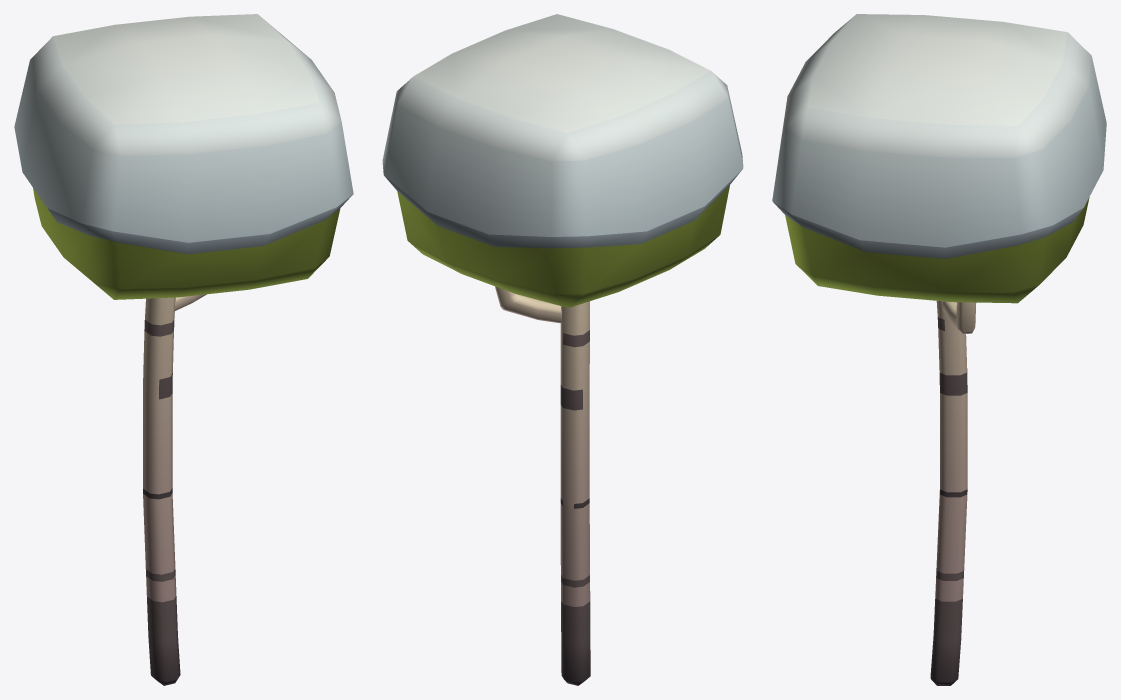
File: birch_tree_col1_08_snow.fbx
The picture shows the model from 3 angles, left to right: view 1: azimuth 30°, elevation 25°; view 2: azimuth 150°, elevation 25°; view 3: azimuth 270°, elevation 25°; orthographic projection. The views are drawn at different scales.
Visible parts, largest first — view 1: birch_tree_col1_08_snow; view 2: birch_tree_col1_08_snow; view 3: birch_tree_col1_08_snow.
Boxes of the visible parts, box(x1,y1,x2,y2) form: birch_tree_col1_08_snow: box(14, 14, 353, 685); birch_tree_col1_08_snow: box(382, 14, 743, 685); birch_tree_col1_08_snow: box(772, 14, 1106, 685).
Size of the model in its own units: 296 by 621 by 295.
Materials: 1 (1 with a texture image).
